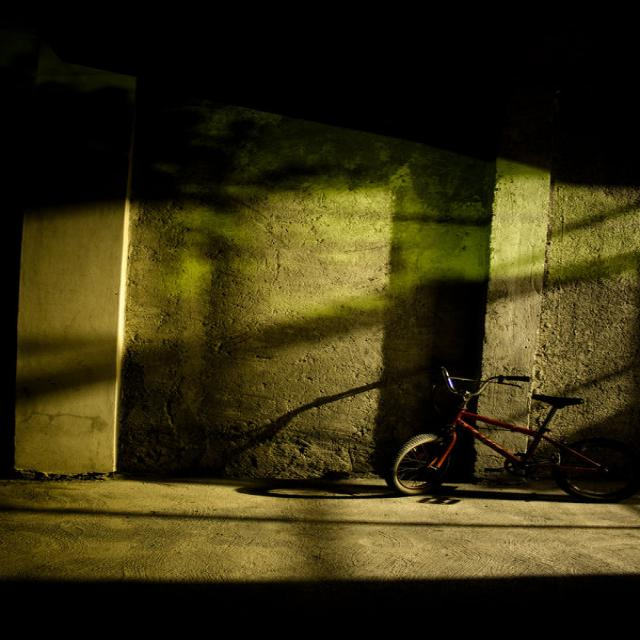Bicycle: (367, 319, 640, 521)
